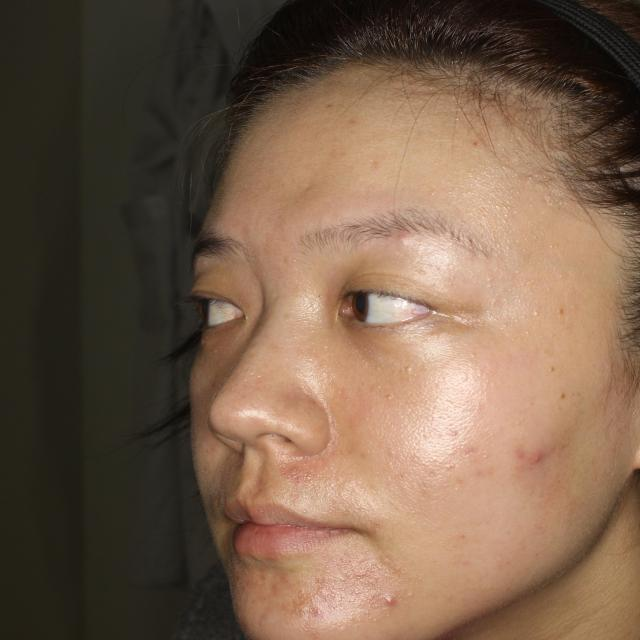acne: (511, 438, 550, 471), (376, 586, 409, 621)
